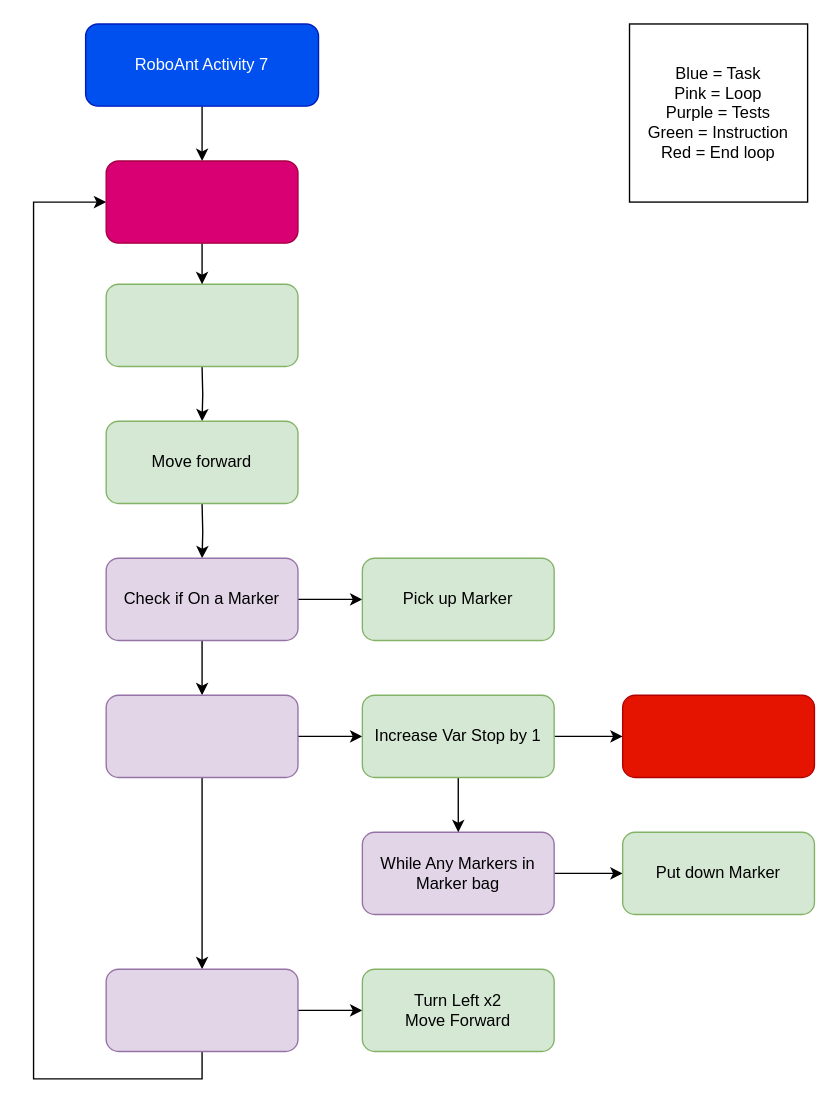
Image size: 838x1114. Some labels were removed from this diagram. Here are the shapes that lost their labels. From the top down, the centre of each, then its label:
At (201,201): "While Var stop is equal to 0".
At (201,324): "Turn Left".
At (201,735): "Else Check If Front is Blocked and Left & Right are Clear".
At (717,735): "Ends loop".
At (201,1009): "Else".
